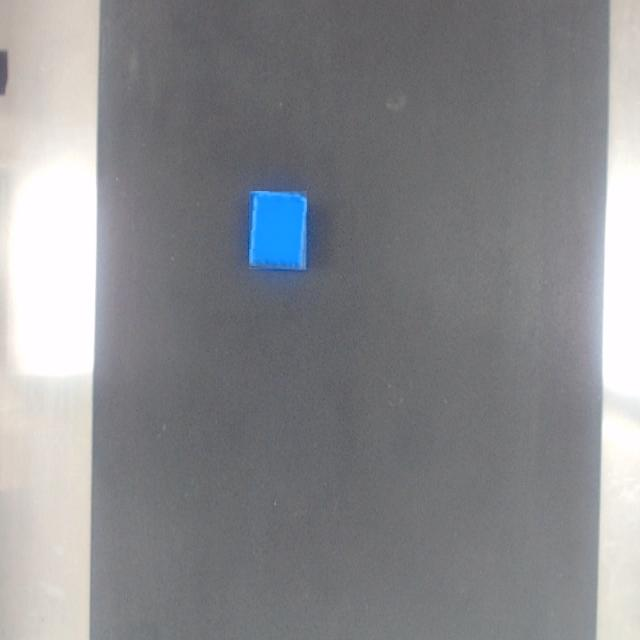Azul: (249, 191, 307, 269)
